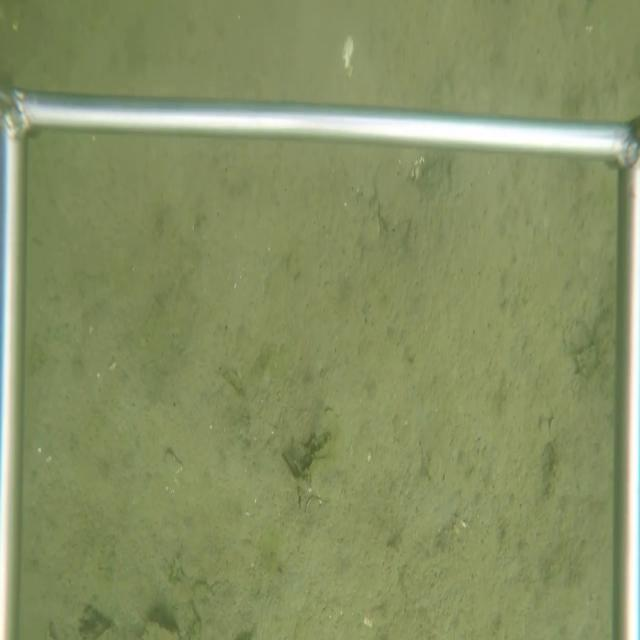Oyster-Indeterminate: (373, 154, 426, 230)
